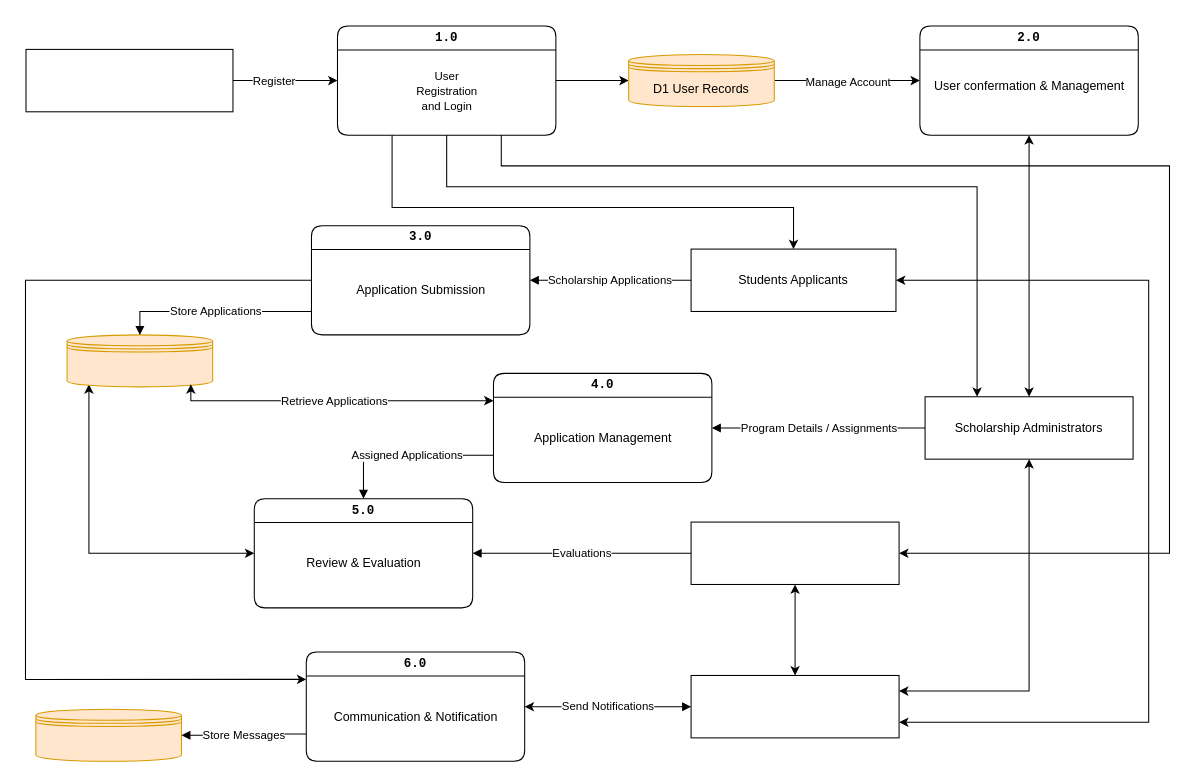
Image size: 1196x779. Some labels were removed from this diagram. Each missing label, with the centre of its shape:
"D2 Application Records" belongs at (x=139, y=360).
"D3 Communication Logs" belongs at (x=108, y=734).
"Home Page" belongs at (x=129, y=80).
"Message" belongs at (x=794, y=706).
"Scholarship Reviewers" belongs at (x=794, y=552).
